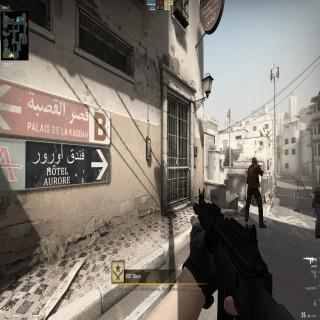T-Head: (252, 157, 257, 166)
